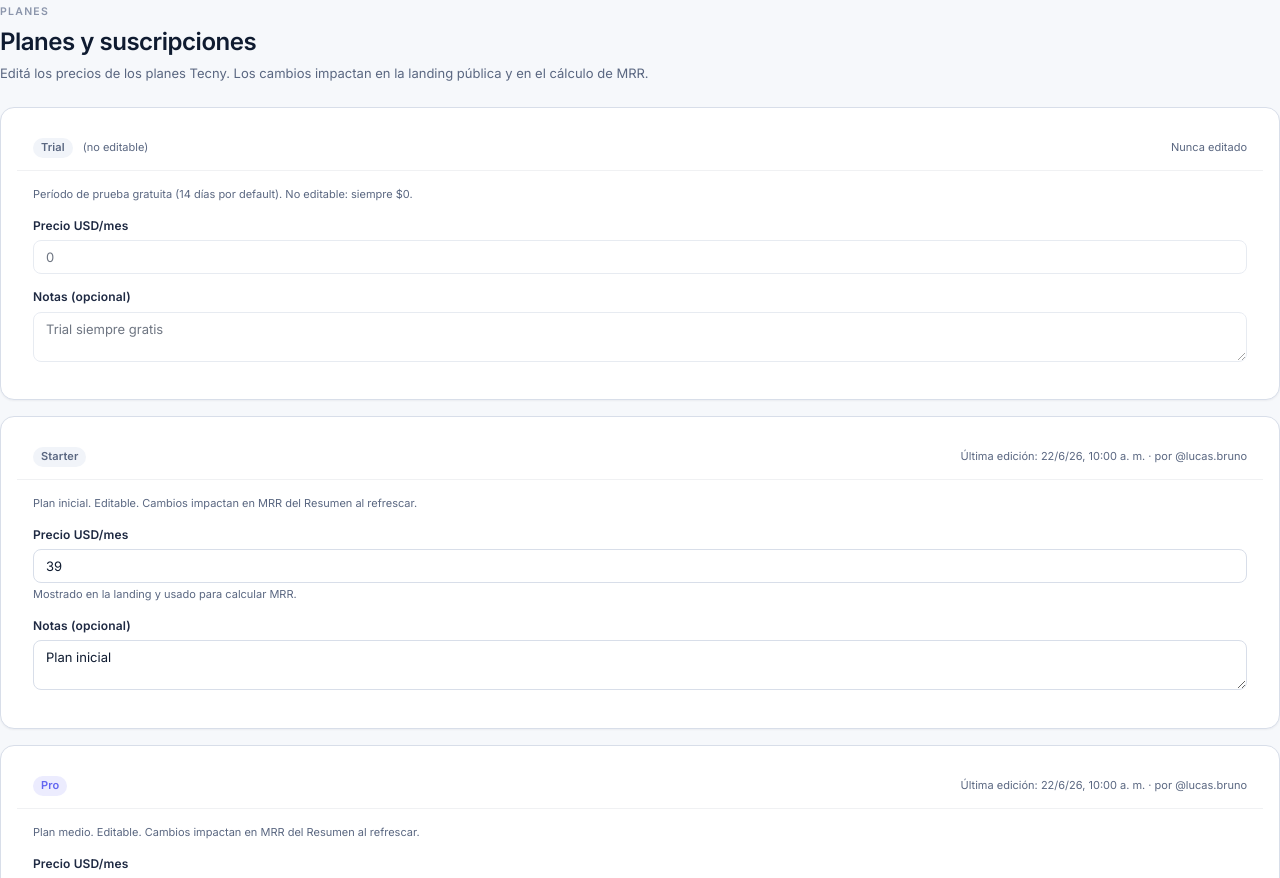
Test: Planes › Guardar abre confirm modal con summary correcto
Replace the text in the number field named "Precio del plan starter" with "49" at (640, 566), box [33, 549, 1247, 583]
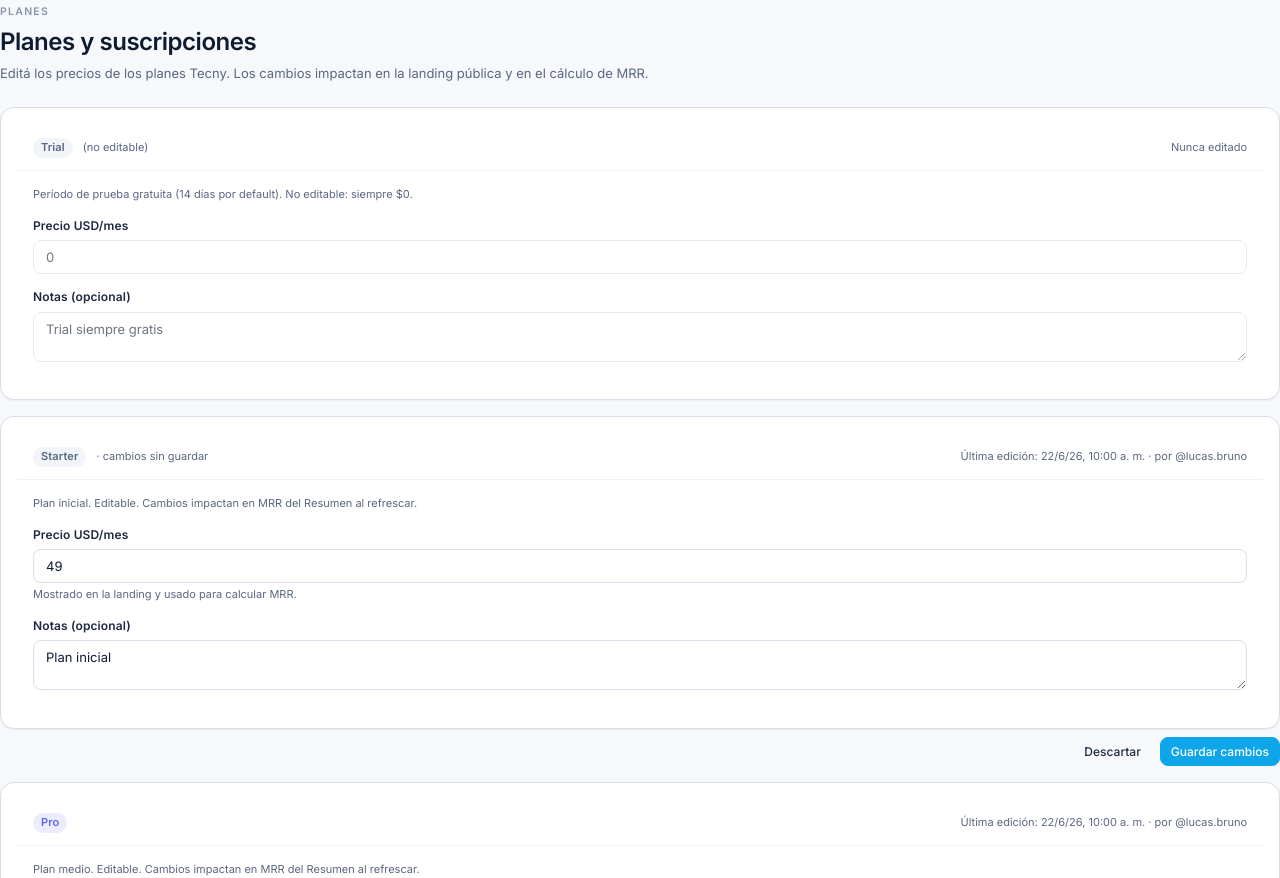
Click the button "Guardar cambios" at (1220, 751), box [1160, 737, 1279, 766]
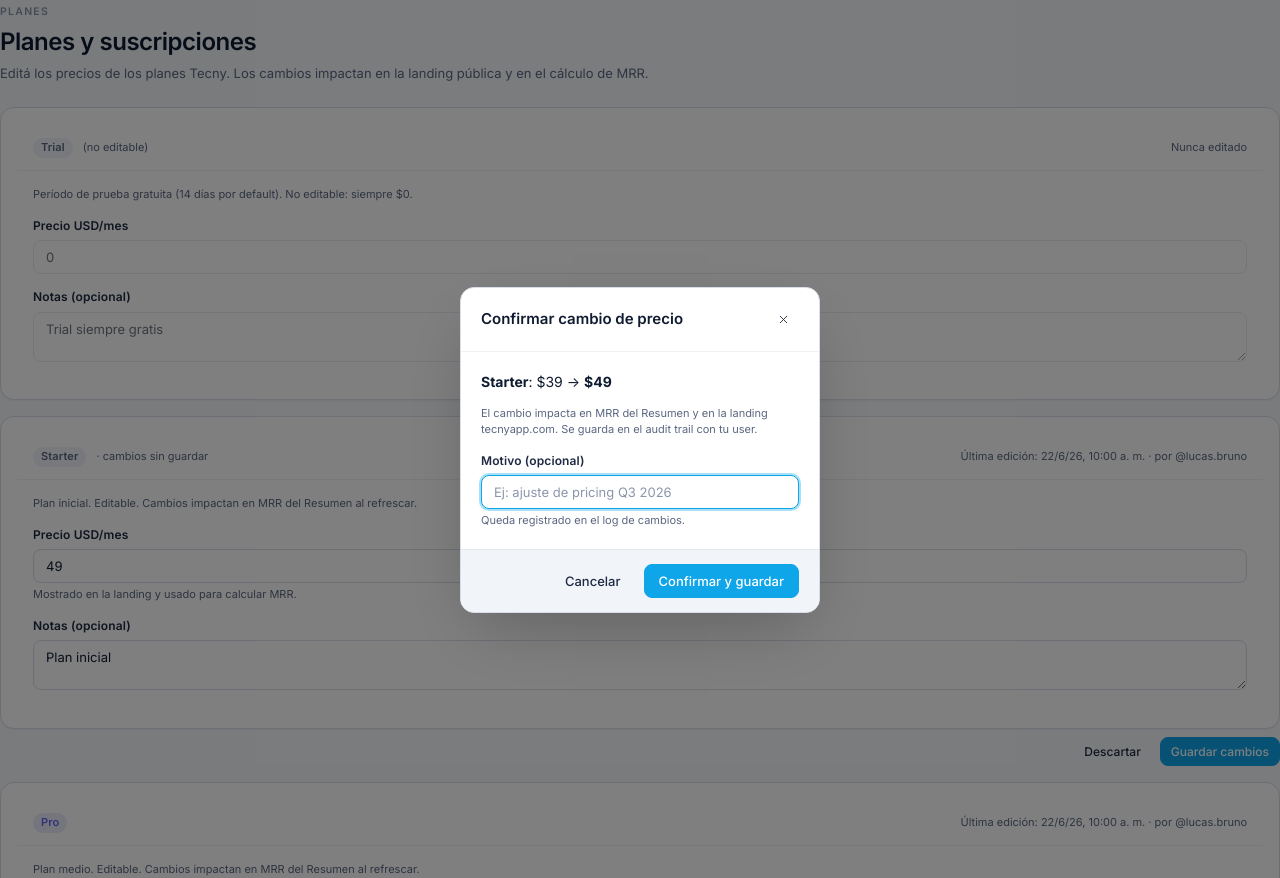
expect the heading "Confirmar cambio de precio" is shown: met, box [481, 308, 683, 330]
expect the text "Starter: $39 → $49" is shown: met, box [481, 373, 612, 390]
expect the text "$49" is shown: met, box [584, 373, 612, 390]
